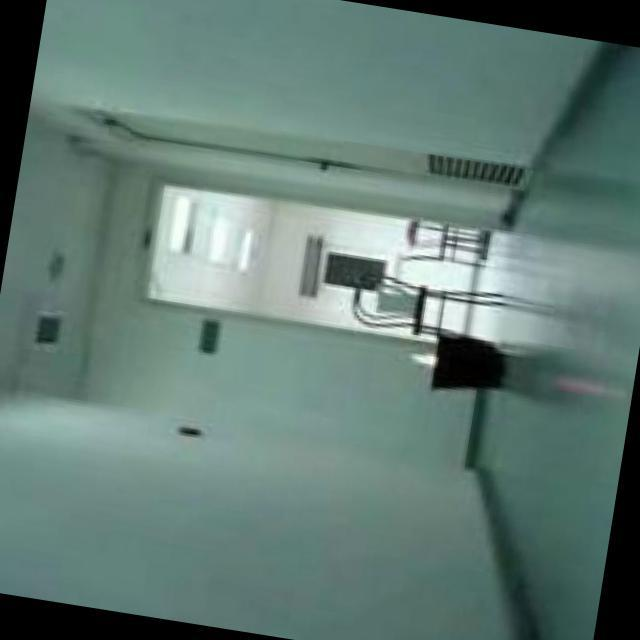Fire: (405, 348, 435, 368)
